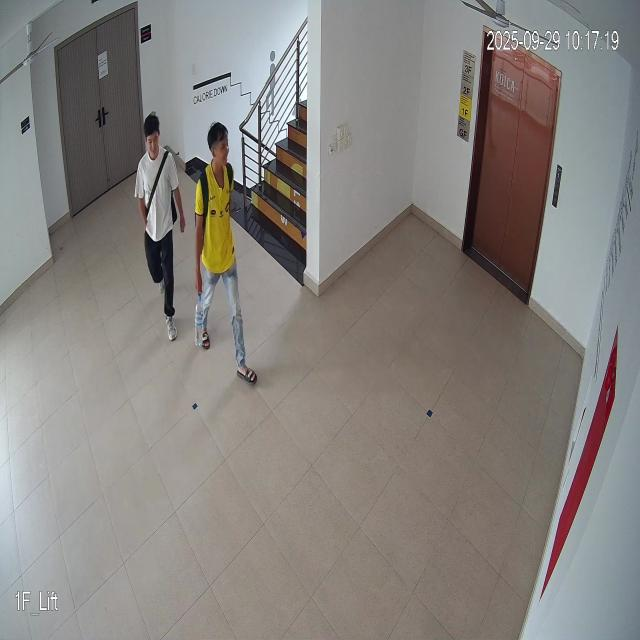face: (208, 123, 232, 172), (144, 112, 162, 161)
